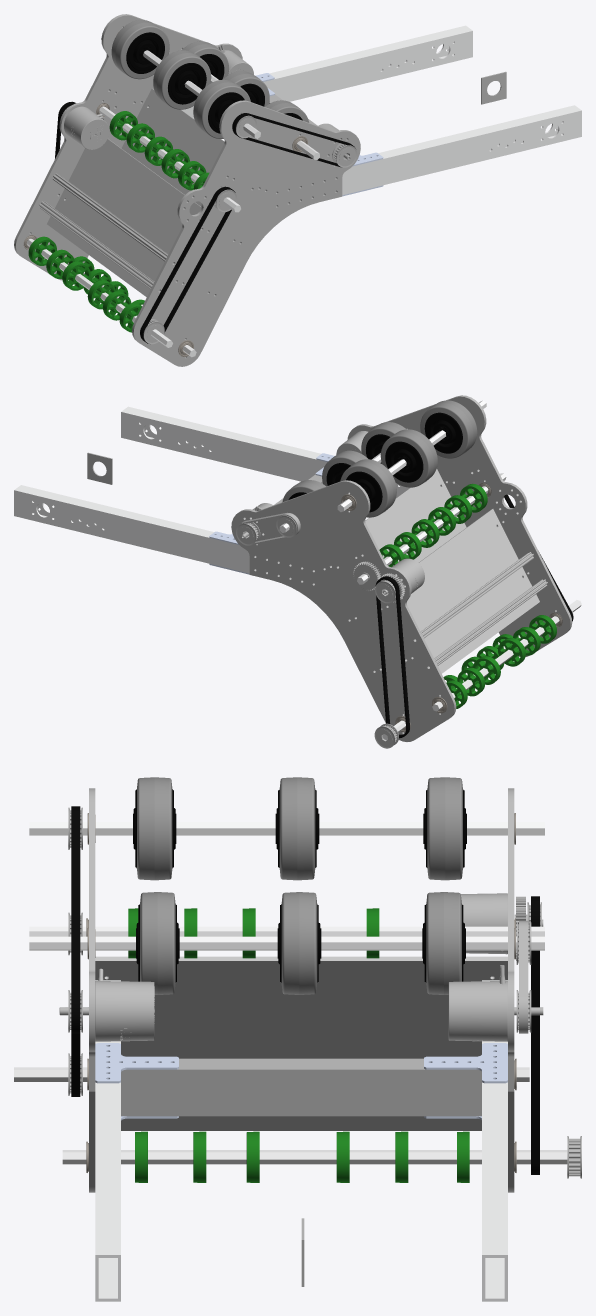
3 views of the same model, one above another, from view 1: azimuth 30°, elevation 25°; view 2: azimuth 150°, elevation 25°; view 3: azimuth 270°, elevation 25° (orthographic). The views are drawn at different scales.
Parts seen in each view (by area): view 1: Solid2.001, Solid1.003, Solid1, Solid2, Solid1.001, Solid1.002, Solid1.019, Solid1.020, Solid1.021, Solid1.037, Solid1.052, Solid1.033 (+20 smaller); view 2: Solid2, Solid1.003, Solid2.001, Solid1.001, Solid1, Solid1.002, Solid1.020, Solid1.021, Solid1.019, Solid1.038, Solid1.033, Solid1.034 (+20 smaller); view 3: Solid1.002, Solid1.055, Solid1, Solid1.001, Solid1.028, Solid1.032, Solid1.031, Solid1.020, Solid1.018, Solid1.021, Solid1.019, Solid1.016 (+20 smaller).
Boxes of the visible parts, x1=… form: Solid2.001: x1=132, y1=100, x2=360, y2=366; Solid1.003: x1=47, y1=139, x2=201, y2=297; Solid1: x1=342, y1=105, x2=581, y2=195; Solid2: x1=14, y1=14, x2=242, y2=280; Solid1.001: x1=149, y1=25, x2=472, y2=118; Solid1.002: x1=121, y1=89, x2=224, y2=206; Solid1.019: x1=111, y1=20, x2=169, y2=79; Solid1.020: x1=153, y1=50, x2=211, y2=109; Solid1.021: x1=193, y1=79, x2=250, y2=138; Solid1.037: x1=140, y1=186, x2=235, y2=343; Solid1.052: x1=64, y1=106, x2=109, y2=149; Solid1.033: x1=38, y1=201, x2=159, y2=290; Solid2: x1=231, y1=480, x2=456, y2=741; Solid1.003: x1=407, y1=509, x2=539, y2=673; Solid2.001: x1=347, y1=395, x2=572, y2=656; Solid1.001: x1=14, y1=485, x2=249, y2=573; Solid1: x1=121, y1=406, x2=409, y2=497; Solid1.002: x1=365, y1=469, x2=466, y2=565; Solid1.020: x1=380, y1=429, x2=437, y2=487; Solid1.021: x1=420, y1=400, x2=477, y2=458; Solid1.019: x1=340, y1=459, x2=396, y2=517; Solid1.038: x1=375, y1=576, x2=409, y2=738; Solid1.033: x1=434, y1=579, x2=547, y2=665; Solid1.034: x1=415, y1=552, x2=533, y2=639; Solid1.002: x1=95, y1=958, x2=507, y2=1130; Solid1.055: x1=121, y1=1058, x2=481, y2=1116; Solid1: x1=95, y1=980, x2=120, y2=1301; Solid1.001: x1=482, y1=980, x2=507, y2=1301; Solid1.028: x1=62, y1=1150, x2=567, y2=1164; Solid1.032: x1=29, y1=936, x2=544, y2=950; Solid1.031: x1=29, y1=822, x2=544, y2=835; Solid1.020: x1=275, y1=777, x2=319, y2=880; Solid1.018: x1=277, y1=892, x2=321, y2=994; Solid1.021: x1=133, y1=777, x2=176, y2=880; Solid1.019: x1=423, y1=777, x2=466, y2=880; Solid1.016: x1=422, y1=892, x2=465, y2=994.
Size of the model in its own units: 0.9094 by 0.4948 by 0.5594.
